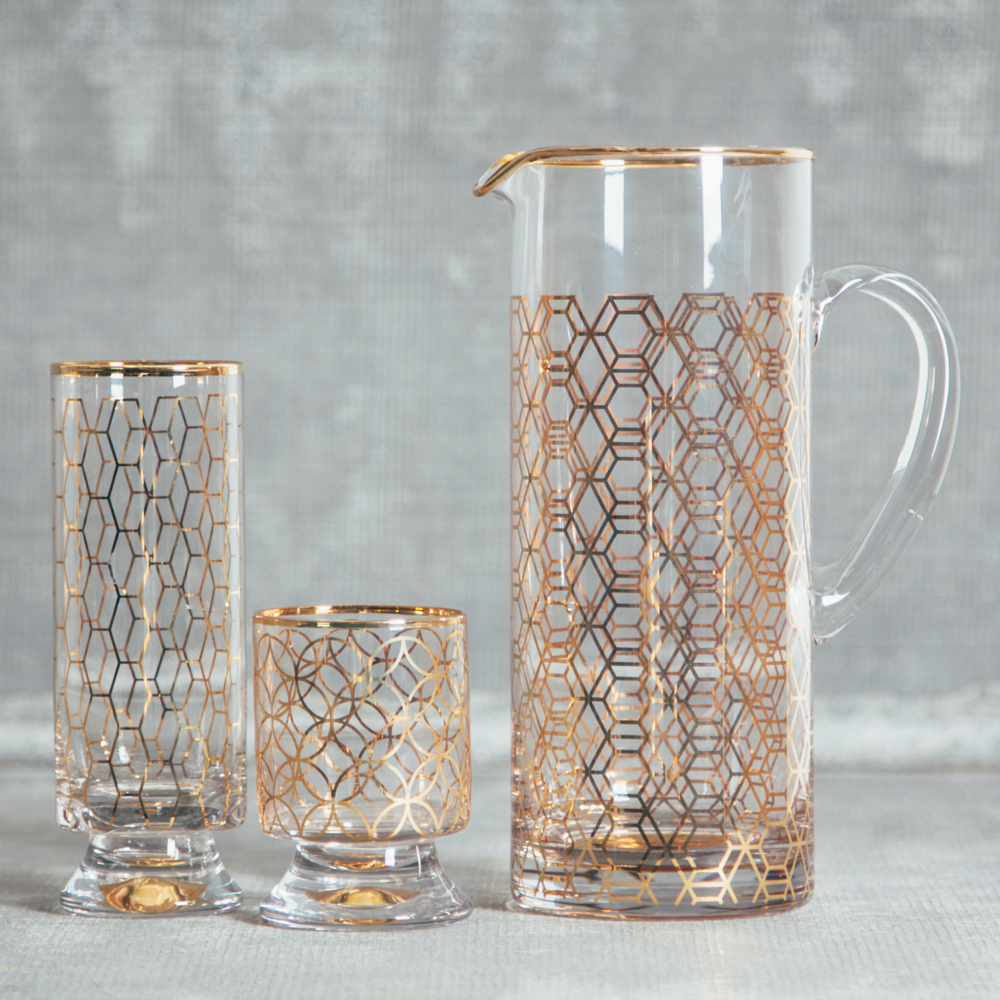Nonrec_Glass: (453, 89, 961, 948), (39, 334, 258, 922), (249, 595, 478, 937)
